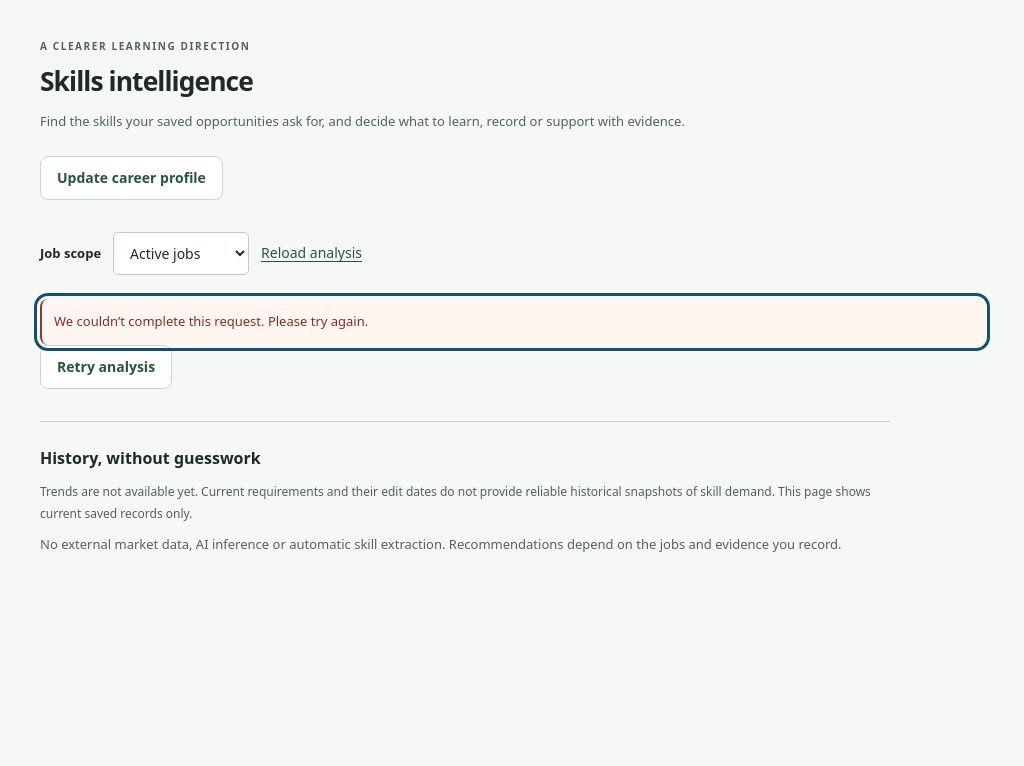
recovers from an analysis error without showing fake summary values
The width and height of the screenshot is (1024, 766).
Expected: the message "We couldn’t complete this request. Please try again." is shown, [40, 299, 984, 344]
Expected: the text "41.7%" is not shown
Click the button "Retry analysis" at (106, 366), box [40, 344, 172, 388]
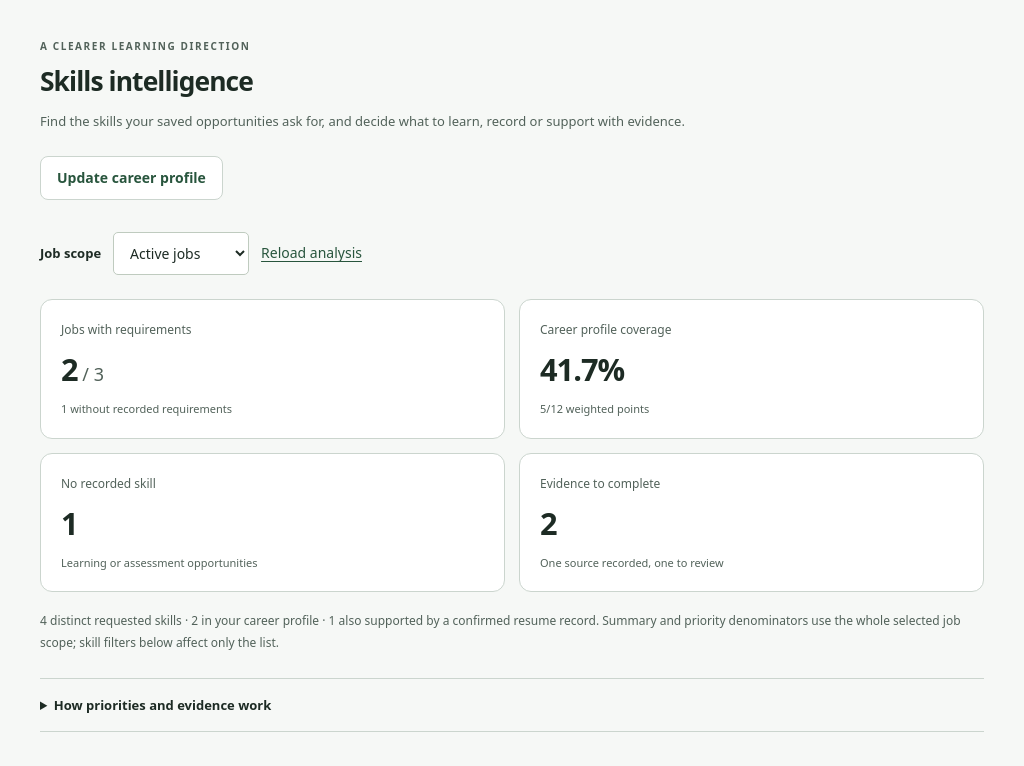
Expected: the text "41.7%" is shown, [540, 348, 624, 390]
